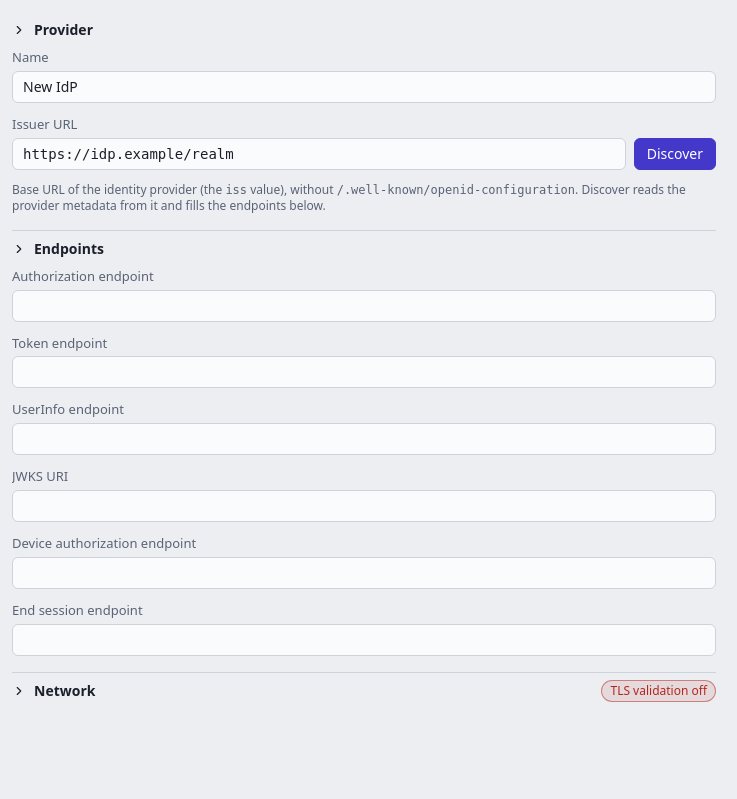
Test: IdpForm › REQ-UI-014 Network starts collapsed, remembers being opened, and flags TLS off while collapsed
The image size is (737, 799).
expect the text "TLS validation off" is shown: met, box 602,680 -> 716,702
Click the button "Network" at (65, 690), box 12,673 -> 594,709
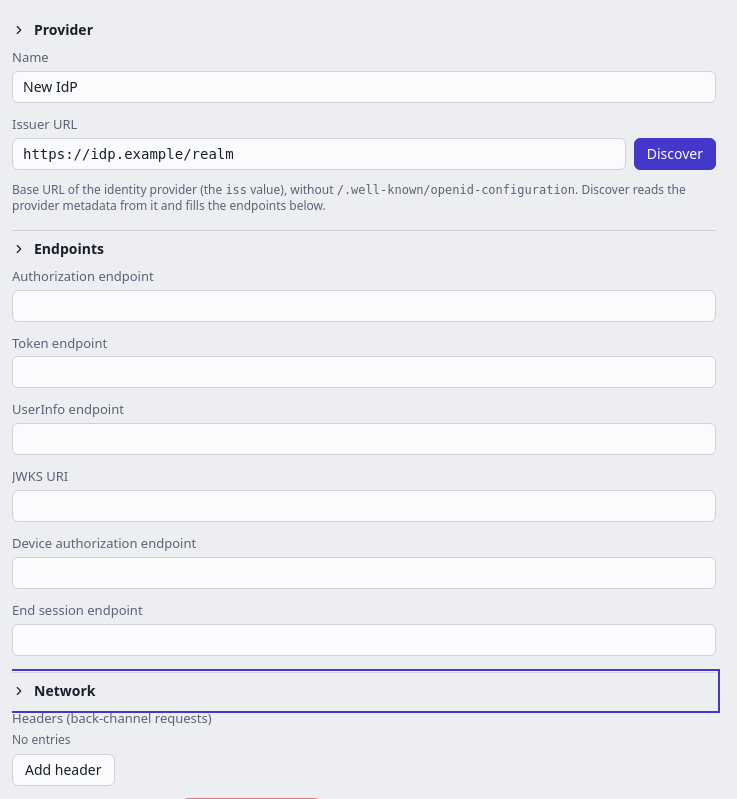
expect the button "Network" is expanded: met, box 12,673 -> 716,709
